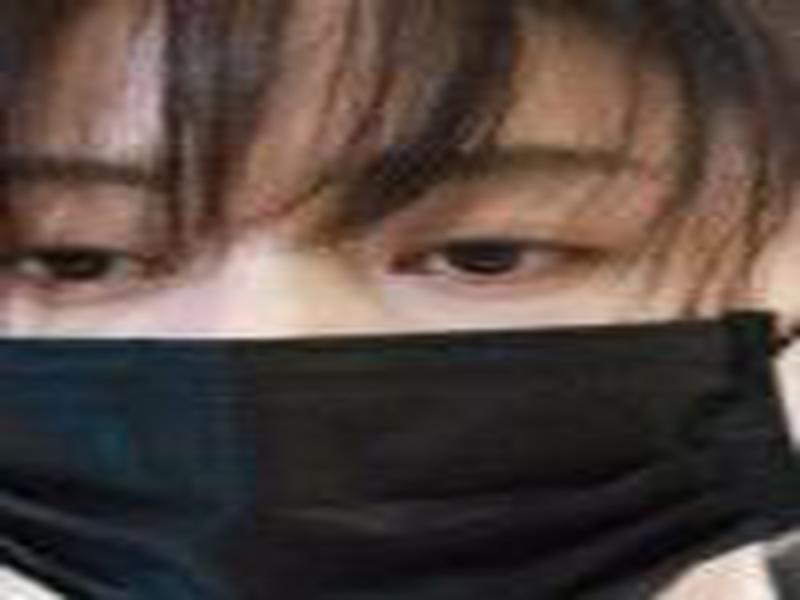with_mask: (1, 4, 795, 600)
